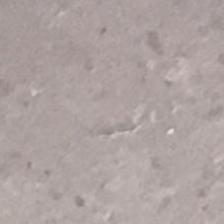Non_Crack: (13, 4, 224, 224)
